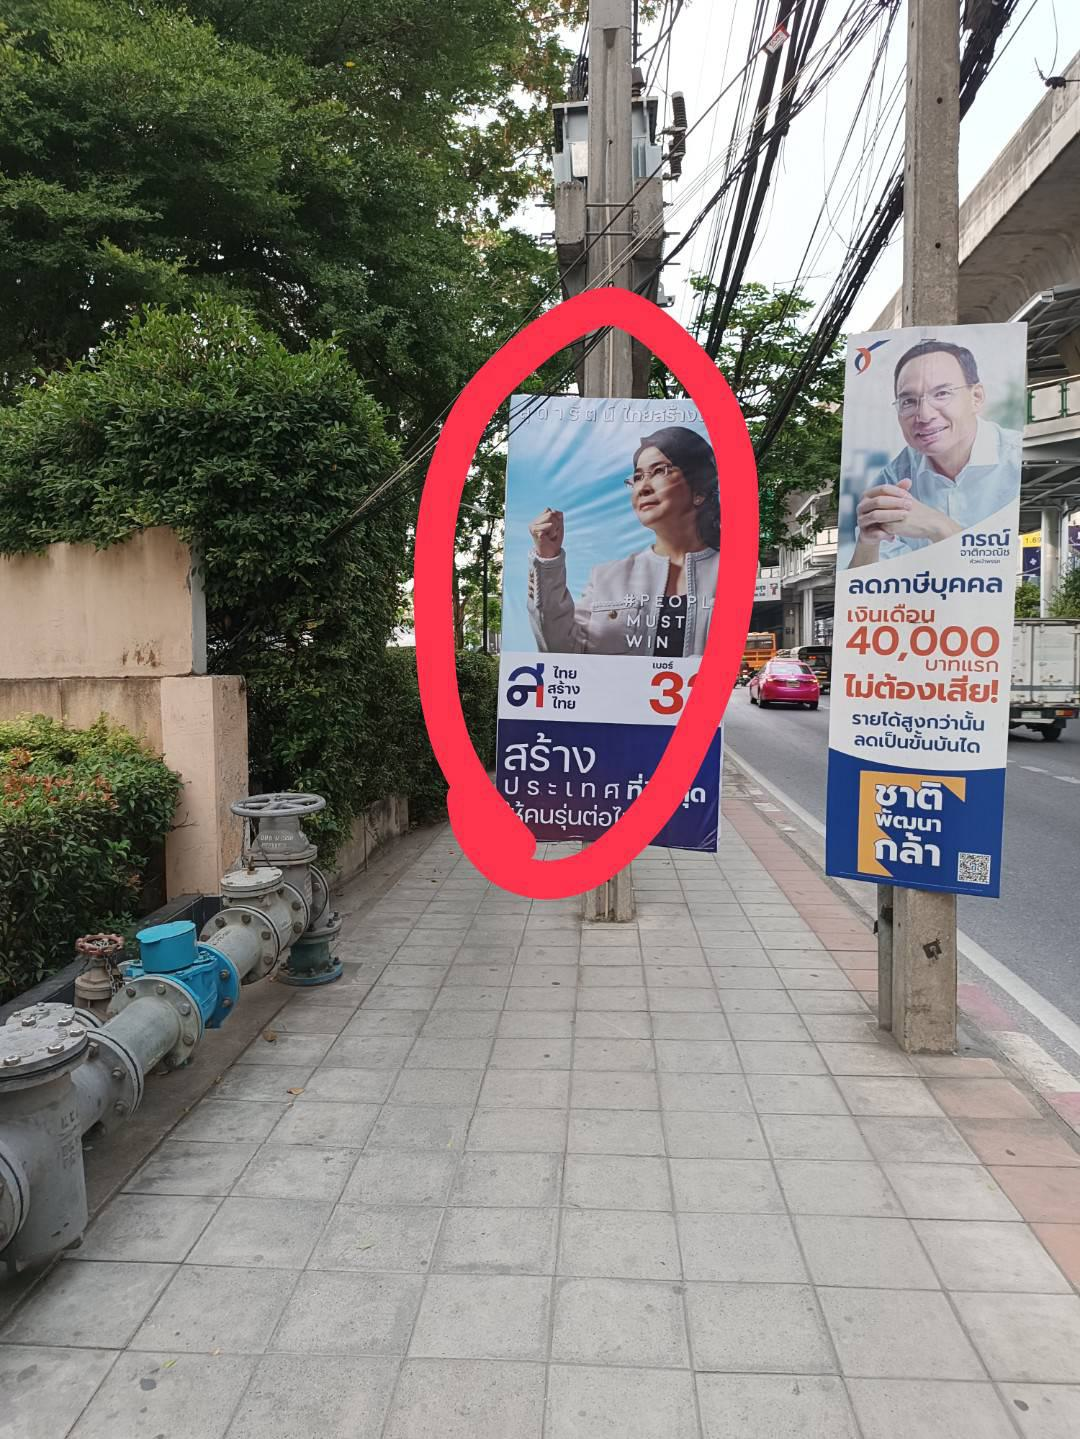Banner: (476, 364, 728, 861), (839, 314, 1027, 898)
